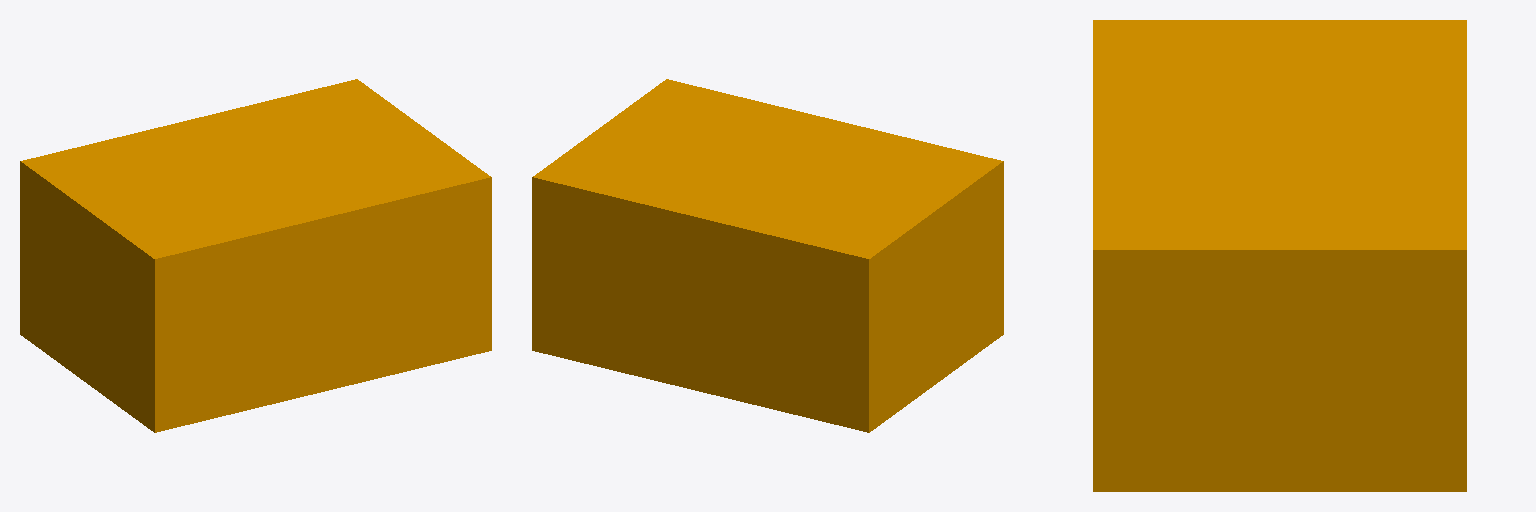
URDF robot description (object):
<?xml version="1.0"?>
<!-- Auto-generated by tools/gen_primitive_objects.py. kind=box dims=(0.098028, 0.067605, 0.048286) -->
<robot name="object">
  <link name="object">
    <visual>
      <origin xyz="0 0 0"/>
      <geometry>
        <box size="0.098028 0.067605 0.048286"/>
      </geometry>
    </visual>
    <collision>
      <origin xyz="0 0 0"/>
      <geometry>
        <box size="0.098028 0.067605 0.048286"/>
      </geometry>
    </collision>
    <inertial>
      <mass value="0.064000"/>
      <inertia ixx="0.00003681" ixy="0.0" ixz="0.0" iyy="0.00006369" iyz="0.0" izz="0.00007563"/>
    </inertial>
  </link>
</robot>

--- Facts derived from the render (not from the file) ---
Views: 3 orthographic renders of the robot side by side, from view 1: azimuth 30°, elevation 25°; view 2: azimuth 150°, elevation 25°; view 3: azimuth 270°, elevation 25°.
Robot: object — 1 links, 0 joints (none); root link object; default pose: all joints at 0.
Visible links, largest first — view 1: object; view 2: object; view 3: object.
Link boxes in pixels (left/top/right/bottom): object: left=20, top=79, right=491, bottom=432; object: left=532, top=79, right=1003, bottom=432; object: left=1093, top=20, right=1466, bottom=491.
Bounding box of the posed robot: 0.098 × 0.0676 × 0.0483 m (x, y, z).
Geometry: primitives only (box / cylinder / sphere), no mesh files.
